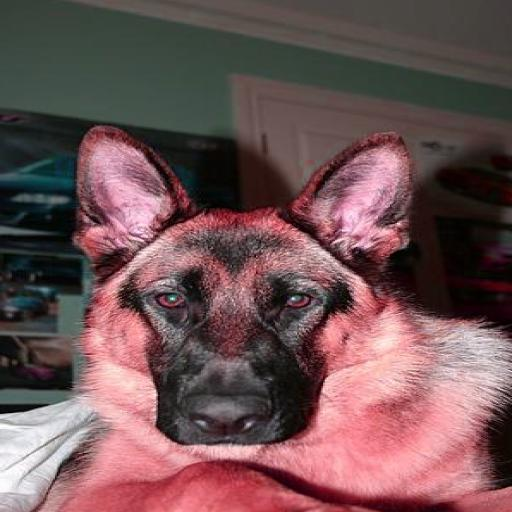dog_face: (66, 118, 417, 442)
